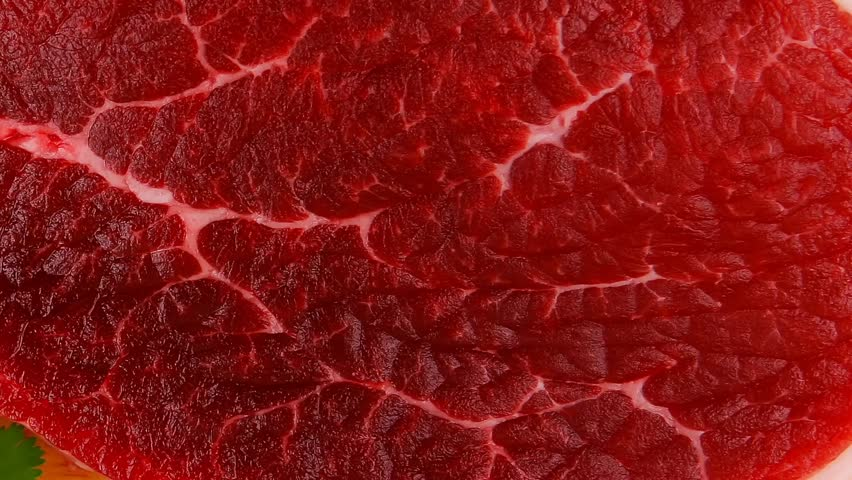ground_beef: (102, 37, 722, 388)
